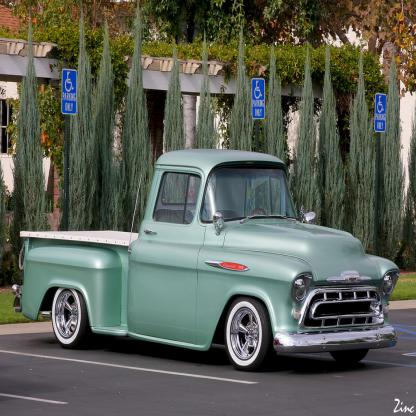Truck: (12, 148, 400, 372)
